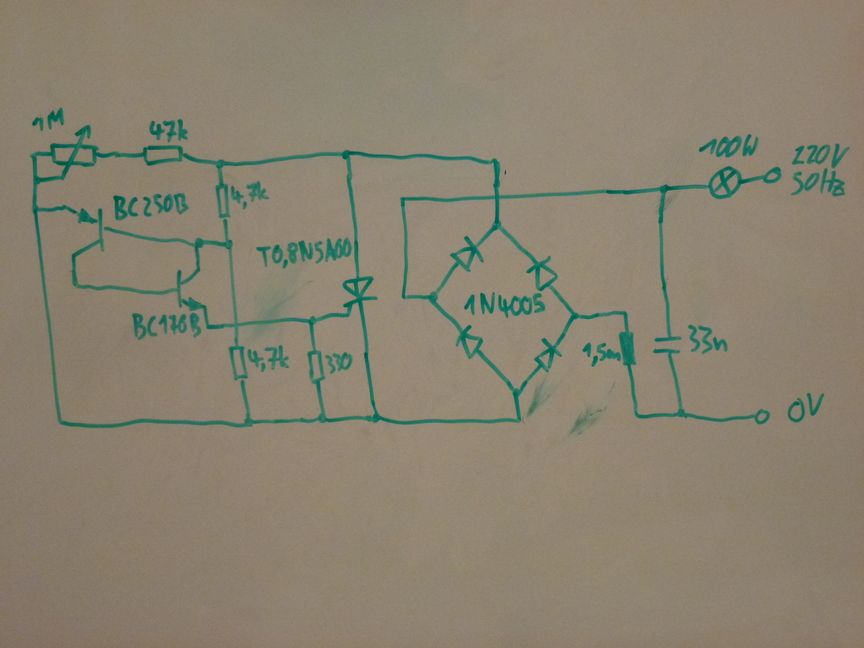capacitor.unpolarized: (649, 331, 683, 365)
crossover: (227, 316, 247, 331), (489, 190, 504, 203)
diode: (447, 234, 486, 273), (522, 254, 561, 292), (452, 323, 487, 362), (530, 336, 564, 375)
inductor: (616, 329, 639, 369)
junction: (236, 413, 259, 432), (364, 408, 386, 427), (488, 216, 507, 234), (25, 202, 45, 219), (654, 180, 672, 198), (564, 309, 585, 324), (424, 288, 441, 306), (506, 383, 525, 399), (337, 146, 356, 162), (188, 234, 205, 251), (302, 313, 320, 329), (485, 152, 503, 168), (672, 406, 690, 421), (510, 412, 526, 428), (314, 410, 330, 426), (221, 236, 237, 252), (212, 156, 229, 171), (52, 416, 70, 430), (618, 306, 635, 320), (28, 174, 44, 188), (27, 148, 42, 162), (630, 409, 645, 423), (396, 192, 411, 205), (67, 279, 82, 291), (397, 291, 410, 303), (202, 321, 213, 332)
lamp: (705, 163, 745, 202)
resistor: (139, 141, 190, 168), (225, 341, 250, 387), (211, 180, 234, 223), (305, 346, 328, 388)
resistor.adjustable: (47, 124, 102, 185)
terminal: (760, 163, 785, 188), (749, 405, 774, 428)
text: (253, 236, 352, 269), (110, 190, 191, 224), (128, 308, 203, 343), (461, 291, 547, 318), (788, 168, 848, 201), (696, 132, 761, 162), (685, 322, 733, 356), (790, 142, 851, 168), (784, 391, 826, 424), (245, 343, 291, 373), (229, 180, 269, 211), (145, 117, 190, 144), (581, 340, 621, 368), (29, 107, 65, 133), (324, 350, 355, 376)
thyristor: (336, 271, 384, 321)
transistor: (58, 200, 109, 262), (173, 264, 213, 313)
